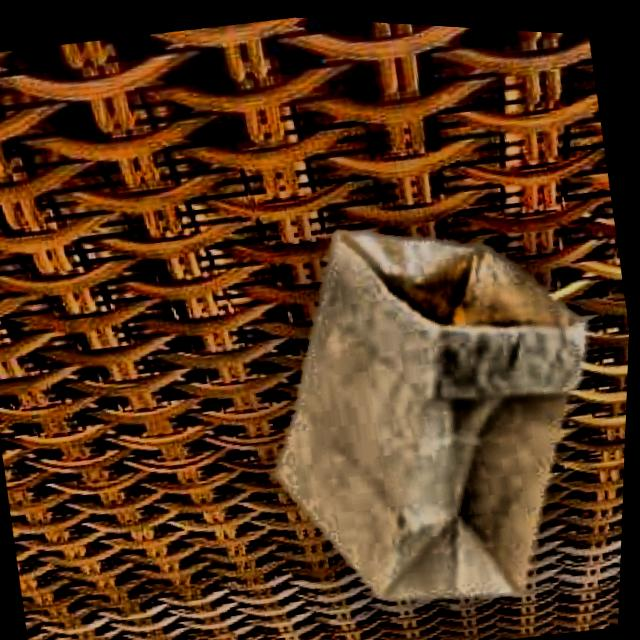Paper-bag: (197, 170, 635, 640)
